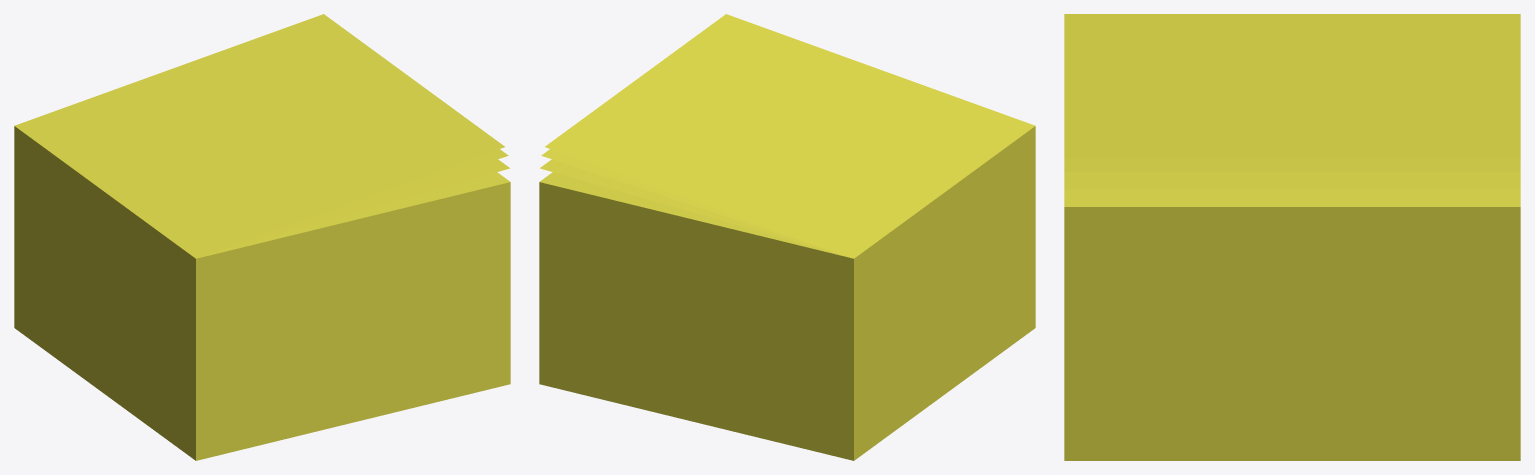
File: PostItNote.fbx
The picture shows the model from 3 angles, left to right: view 1: azimuth 30°, elevation 25°; view 2: azimuth 150°, elevation 25°; view 3: azimuth 270°, elevation 25°; orthographic projection. The views are drawn at different scales.
Visible parts, largest first — view 1: PostItNote; view 2: PostItNote; view 3: PostItNote.
Part boxes in pixels (x1=…): PostItNote: x1=14, y1=14, x2=510, y2=460; PostItNote: x1=539, y1=14, x2=1035, y2=460; PostItNote: x1=1064, y1=14, x2=1520, y2=460.
Bounding box in the file's own units: 0.0633 × 0.0458 × 0.0633.
